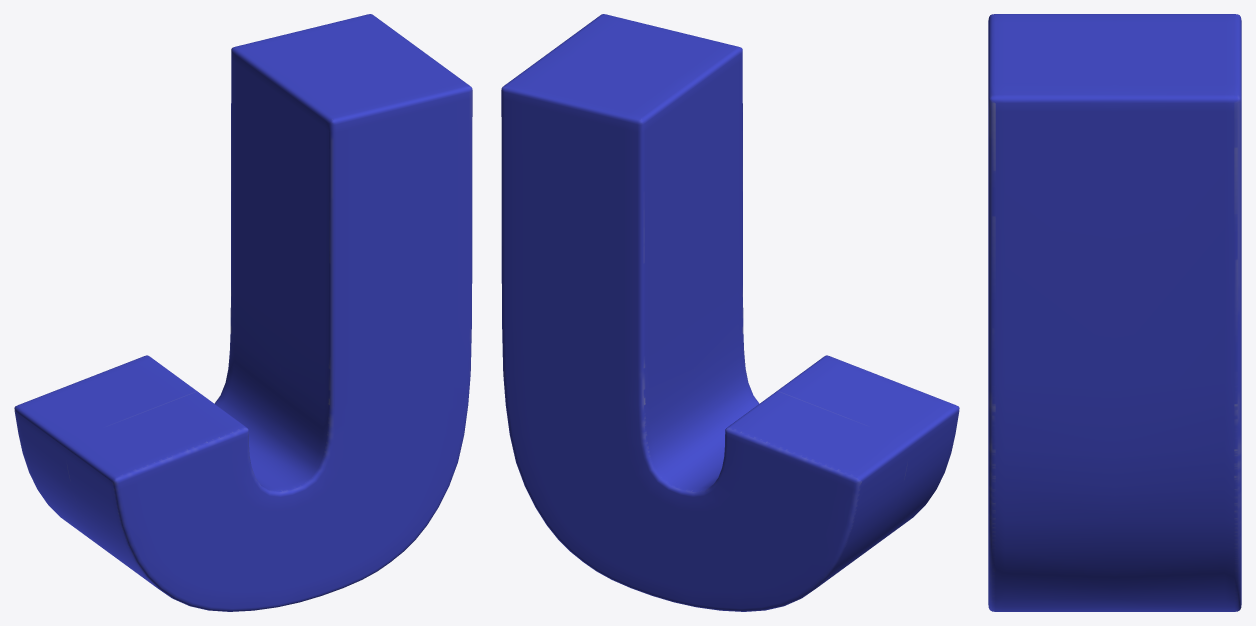
The model's file is modelJ.glb.
The picture shows the model from 3 angles, left to right: view 1: azimuth 30°, elevation 25°; view 2: azimuth 150°, elevation 25°; view 3: azimuth 270°, elevation 25°; orthographic projection. The views are drawn at different scales.
Parts seen in each view (by area): view 1: node_id84_0; view 2: node_id84_0; view 3: node_id84_0.
Boxes of the visible parts, bbox=[...] form: node_id84_0: bbox=[14, 14, 472, 611]; node_id84_0: bbox=[501, 14, 959, 611]; node_id84_0: bbox=[988, 14, 1241, 611].
Bounding box in the file's own units: 0.4051 × 0.512 × 0.2003.
1 material, 1 textured.
